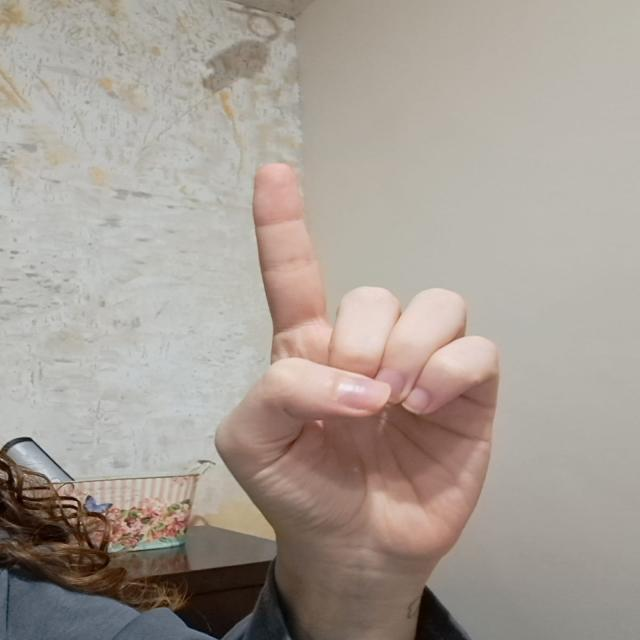D2: (211, 134, 504, 594)
